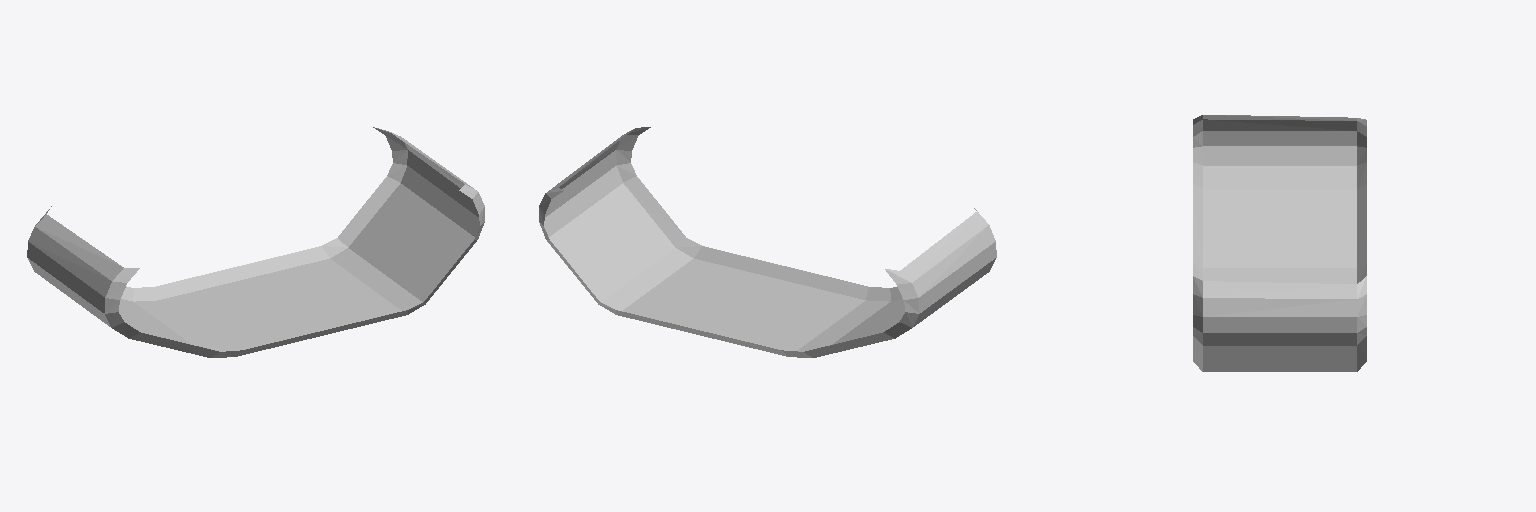
Rendered from treadBR.obj.
The picture shows the model from 3 angles: view 1: azimuth 30°, elevation 25°; view 2: azimuth 150°, elevation 25°; view 3: azimuth 270°, elevation 25°; orthographic projection.
Visible parts, largest first — view 1: ungrouped; view 2: ungrouped; view 3: ungrouped.
Part boxes in pixels (x1,y1,x2,y2): ungrouped: (27,127,484,357); ungrouped: (539,127,996,357); ungrouped: (1193,115,1366,371).
Size of the model in its own units: 11.1 by 3.25 by 4.4.